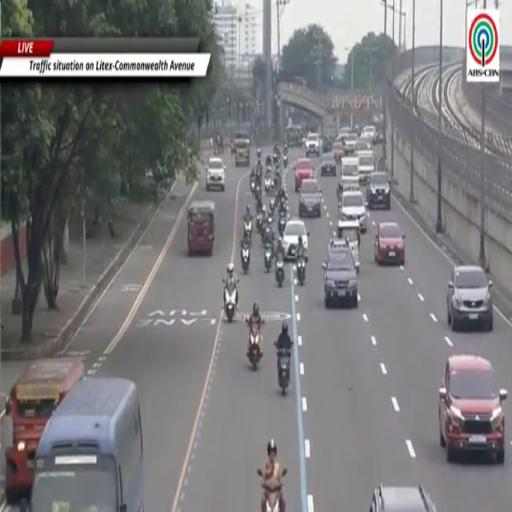bus: (30, 377, 143, 511)
car: (439, 355, 507, 463), (447, 265, 492, 331), (322, 247, 358, 308), (370, 485, 436, 511), (375, 222, 405, 265), (339, 190, 367, 232), (283, 219, 308, 260), (367, 172, 390, 210), (299, 179, 321, 217), (293, 158, 315, 191), (206, 157, 226, 190), (357, 151, 374, 184), (321, 153, 336, 177), (306, 134, 320, 156), (343, 133, 357, 154), (333, 141, 344, 163), (361, 125, 376, 141), (355, 139, 372, 151), (329, 238, 348, 248)
jeepney: (5, 359, 85, 504), (188, 201, 214, 255), (337, 219, 360, 271), (340, 156, 359, 189), (235, 139, 250, 167), (231, 133, 250, 154)
motorcycle: (258, 470, 282, 511), (246, 320, 262, 371), (277, 349, 291, 395), (223, 279, 237, 322), (240, 245, 250, 274), (275, 255, 284, 287), (264, 244, 273, 273), (296, 259, 305, 286), (262, 223, 272, 245), (244, 220, 252, 242), (278, 214, 286, 236), (264, 177, 272, 195), (255, 182, 261, 201), (250, 176, 255, 194), (256, 214, 261, 232), (270, 197, 275, 214), (273, 152, 279, 165), (283, 154, 288, 168), (257, 148, 261, 158)
